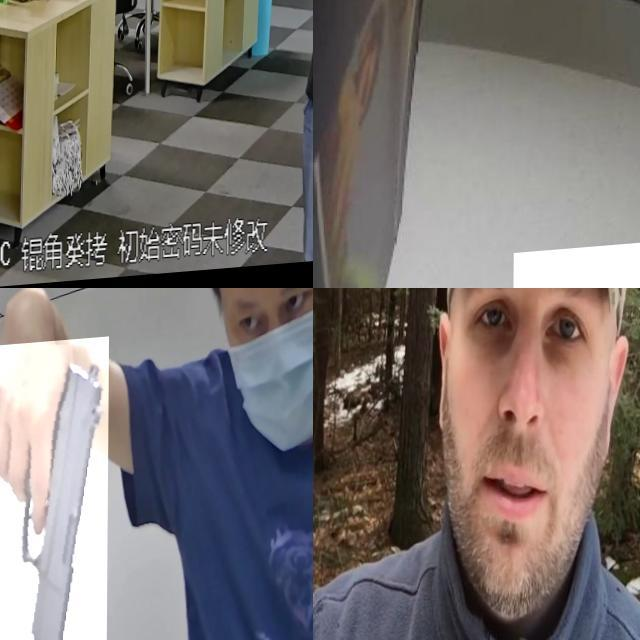-: (313, 288, 419, 549)
gun-knife-thesis - v11 Yolov5 augmented: (0, 342, 109, 640), (173, 0, 227, 56)
